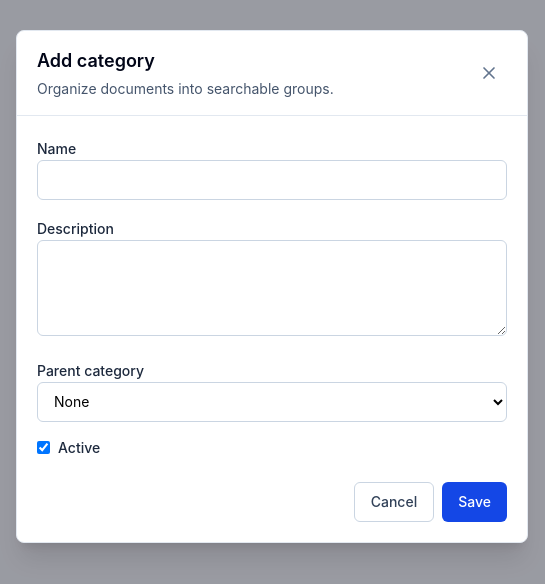
Test: CategoryFormDialog › should show validation error on empty submission
Click the button "Save".
click(475, 502)  # box [442, 482, 507, 522]
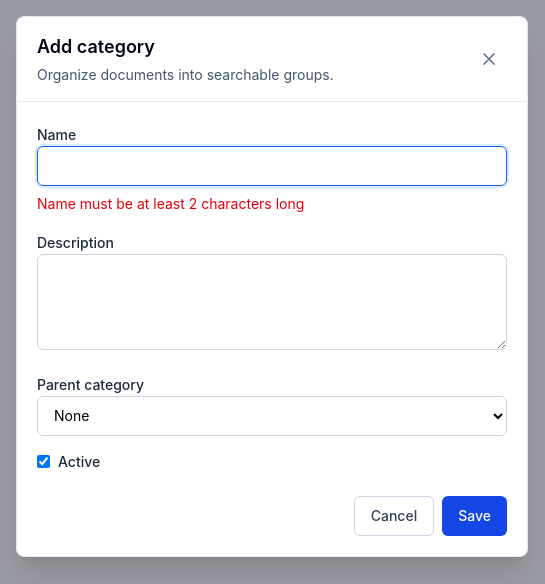
Now the text "Name must be at least 2 characters long" is shown, box [37, 194, 304, 212]
